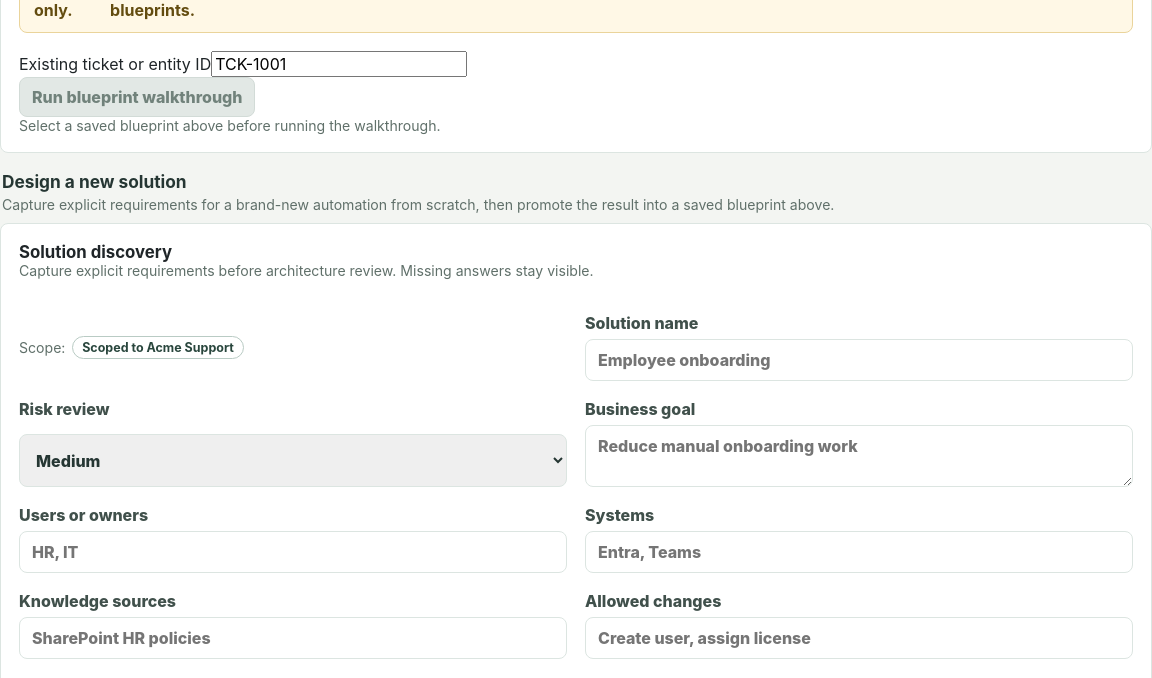
Test: Consultant › does not reload the blueprint list when saving selects a new blueprint
(page scrolled)
In the field labelled "Solution name": [859, 360] box [585,339,1133,381], type "Employee onboarding review"
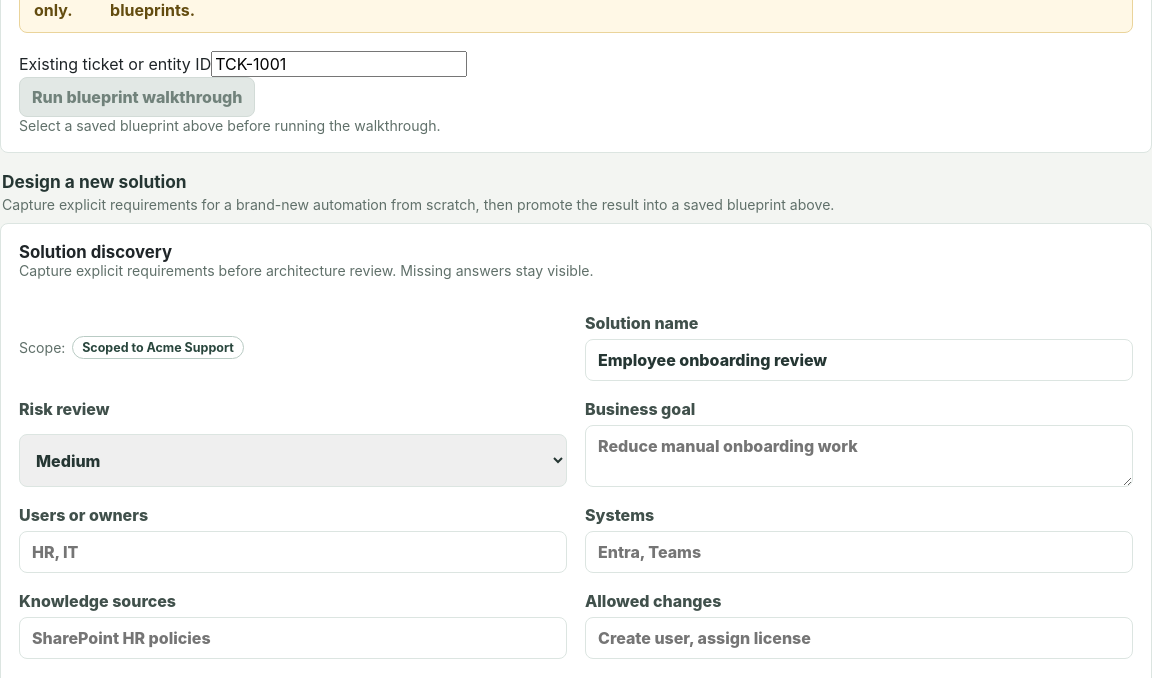
In the text box labelled "Business goal": [859, 456] box [585,425,1133,487], type "Automate employee onboarding"
(page scrolled)
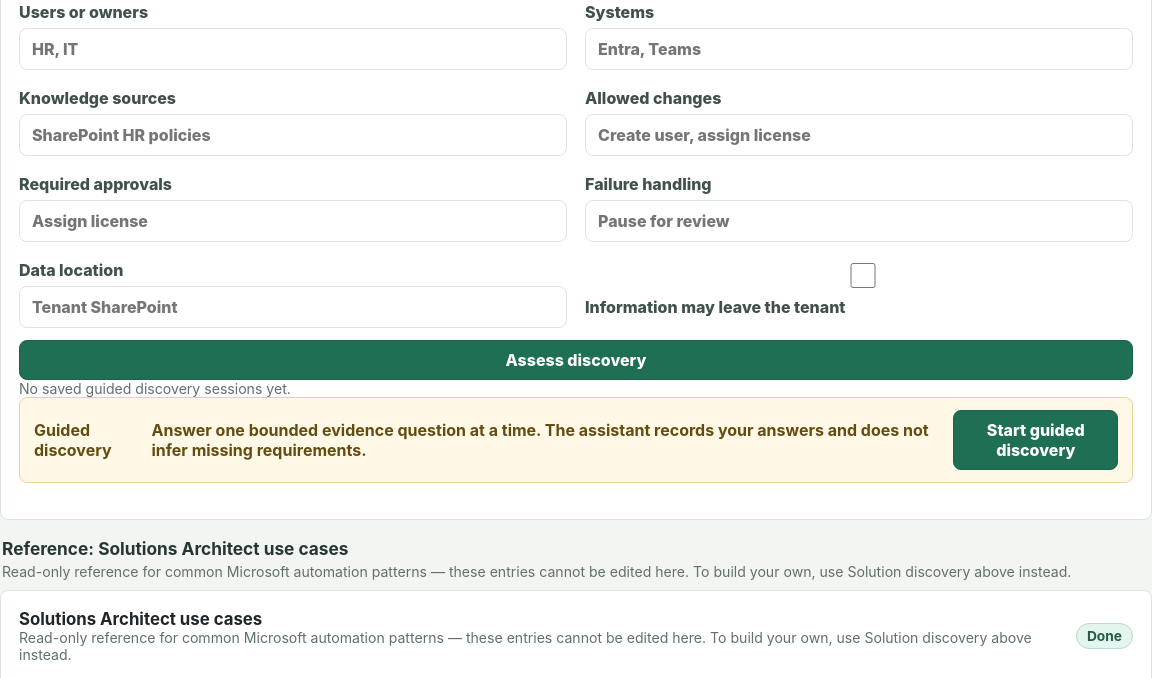
Click the button "Assess discovery": [576, 360] box [19,340,1133,380]
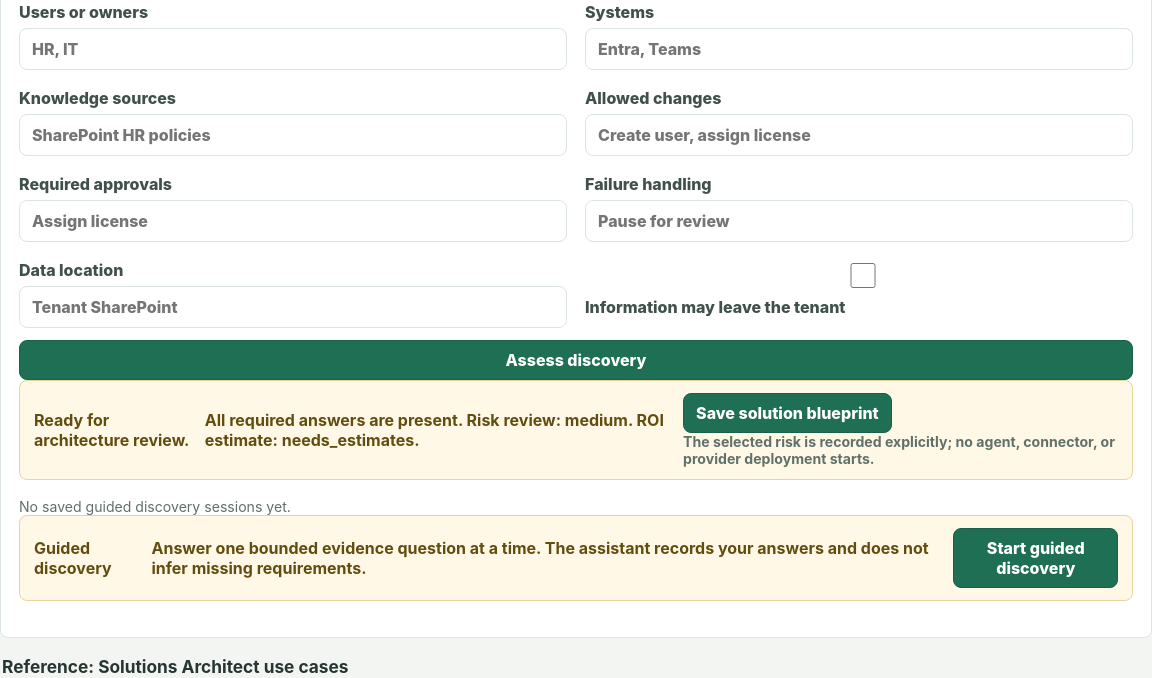
Expected: the text "Ready for architecture review." is shown, [34,410,197,450]
Click the button "Save solution blueprint": [787, 413] box [683,393,892,433]
(page scrolled)
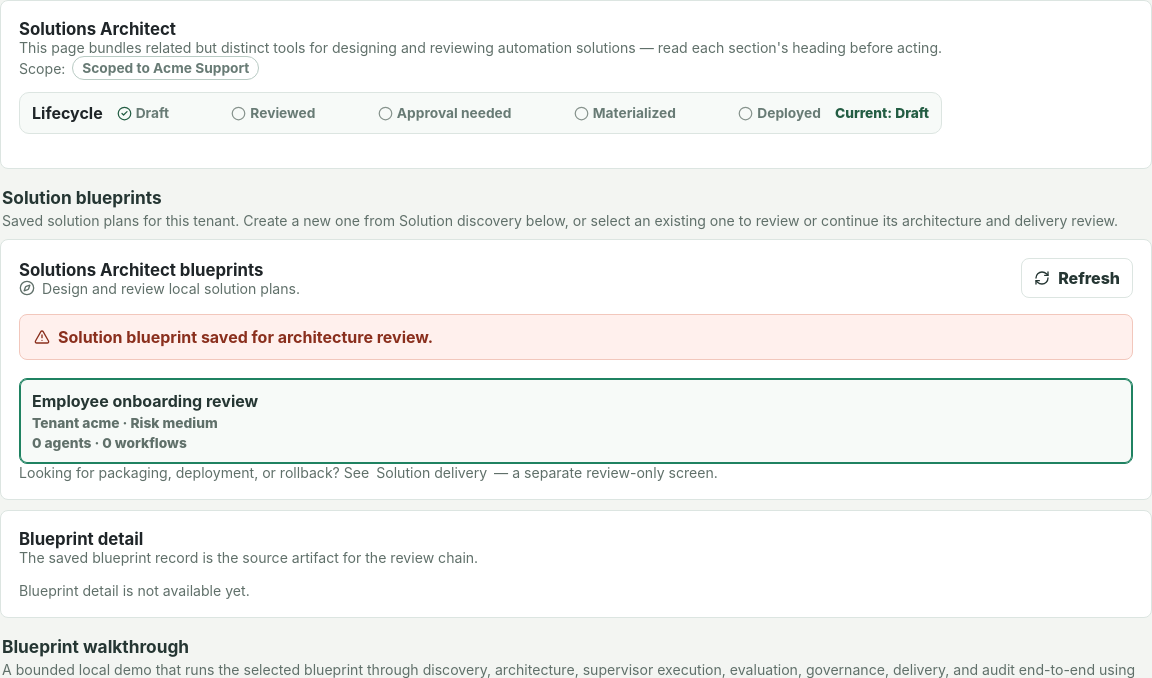
Expected: the button "Employee onboarding review" is shown, [19,378,1133,464]
Expected: the message shows "saved for architecture review", [58,327,433,347]
